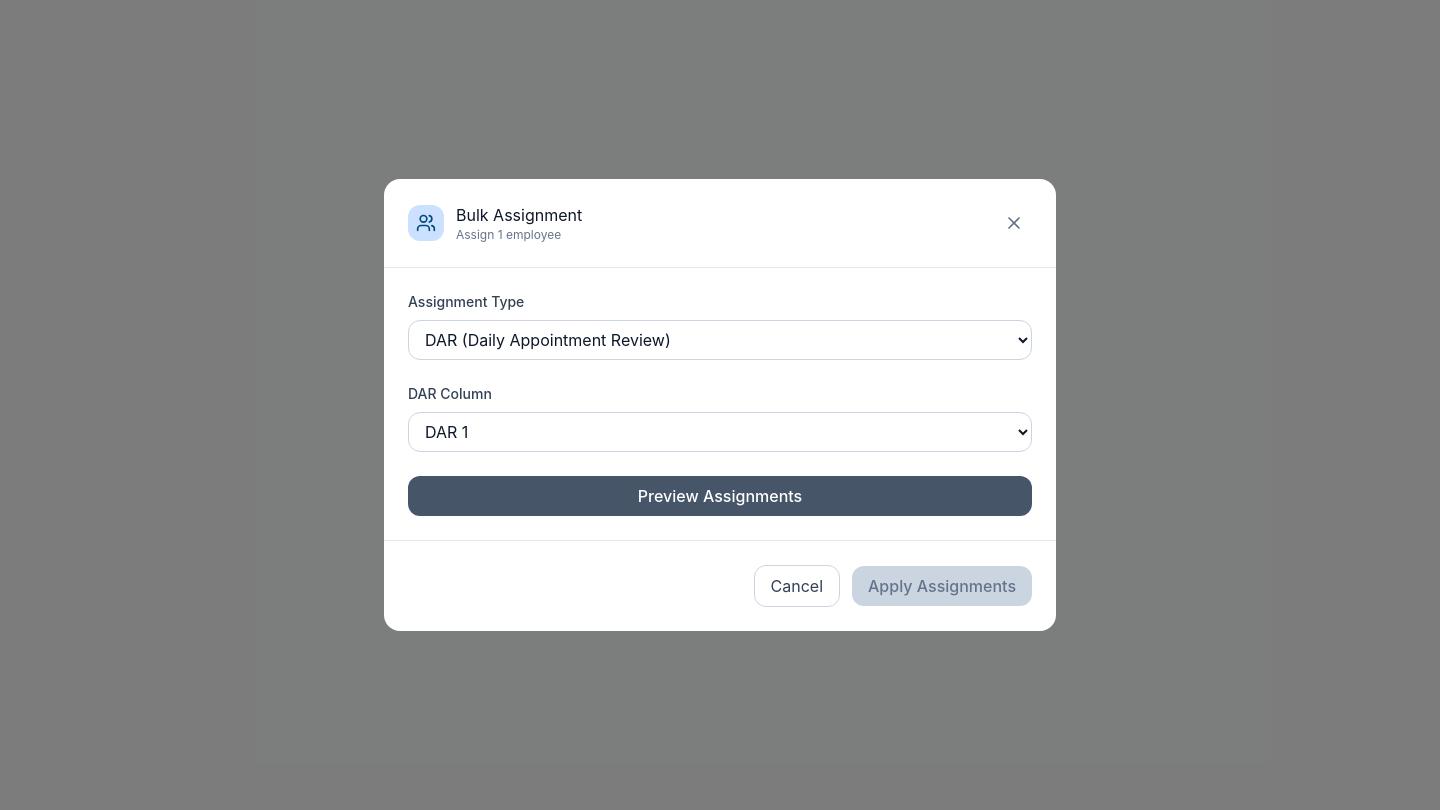
Test case: BulkAssignmentModal › should validate DAR skill requirements
Click the button "Preview Assignments": (720, 496) [408, 476, 1032, 516]
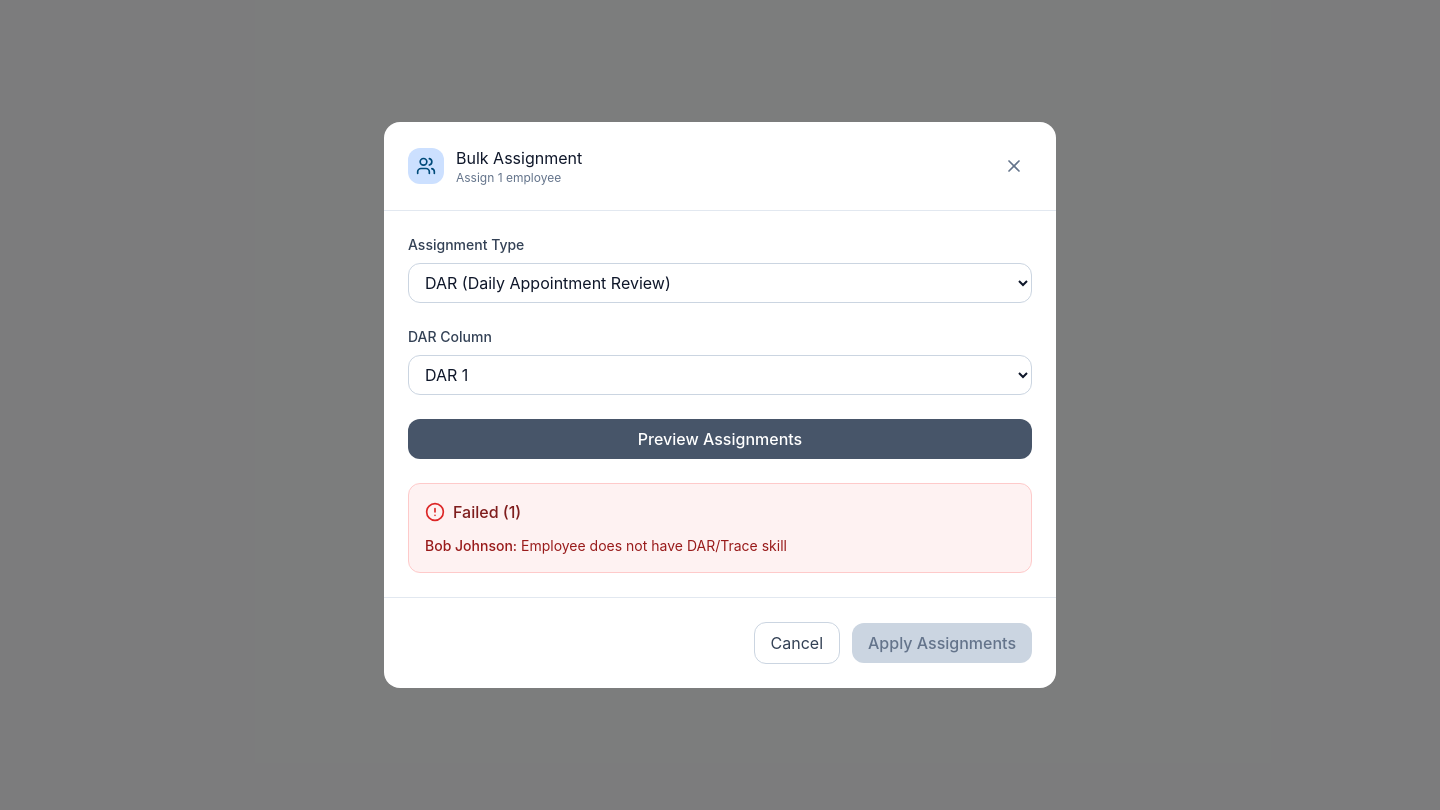
Expected: the heading "Failed (1)" is shown, [453, 500, 521, 524]
Expected: the list item "Bob Johnson: Employee does not have DAR/Trace skill" is shown, [425, 537, 787, 554]
